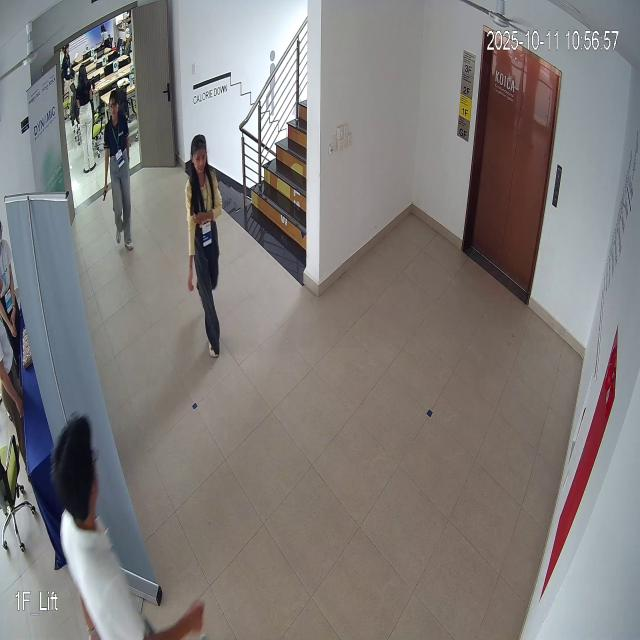face: (189, 130, 212, 180)
